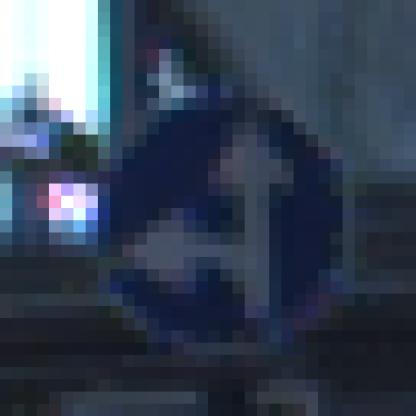Straight or Left: (74, 74, 356, 356)
